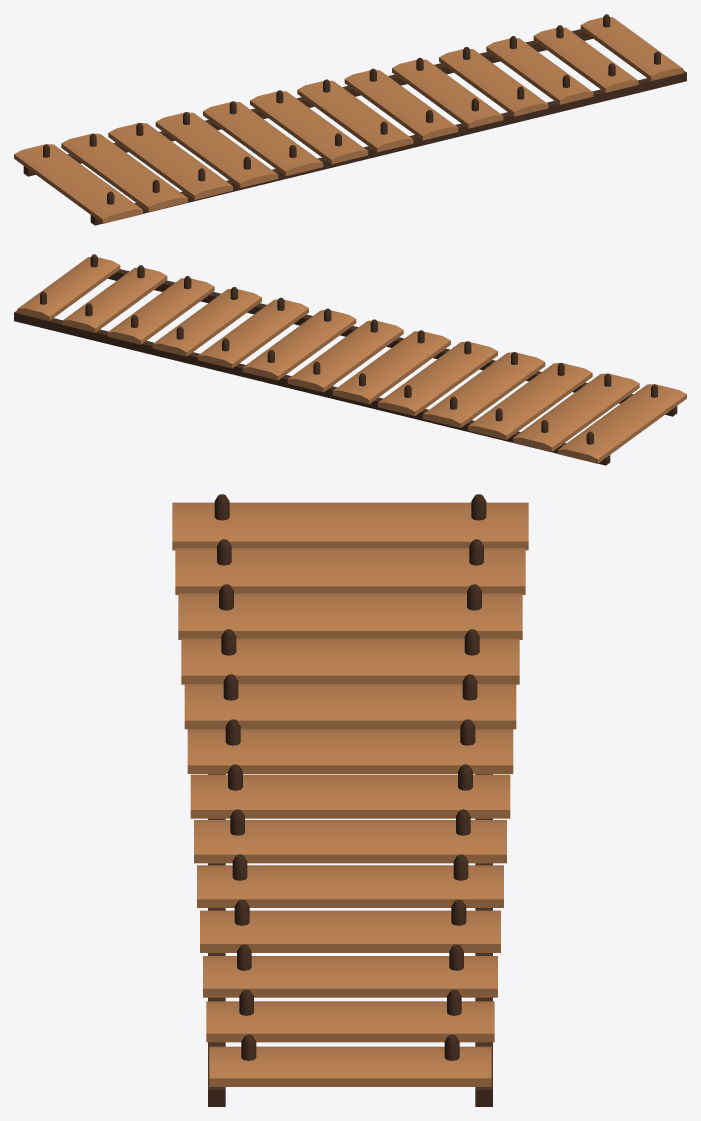
The model's file is gamelar_gender_barung.fbx.
The picture shows the model from 3 angles, top to bottom: view 1: azimuth 30°, elevation 25°; view 2: azimuth 150°, elevation 25°; view 3: azimuth 270°, elevation 25°; orthographic projection. The views are drawn at different scales.
Visible parts, largest first — view 1: GenderBarung_Mesh; view 2: GenderBarung_Mesh; view 3: GenderBarung_Mesh.
Part boxes in pixels (x1=…): GenderBarung_Mesh: x1=14, y1=14, x2=686, y2=225; GenderBarung_Mesh: x1=14, y1=254, x2=686, y2=465; GenderBarung_Mesh: x1=172, y1=494, x2=528, y2=1106.
Bounding box in the file's own units: 0.9212 × 0.0385 × 0.24.
